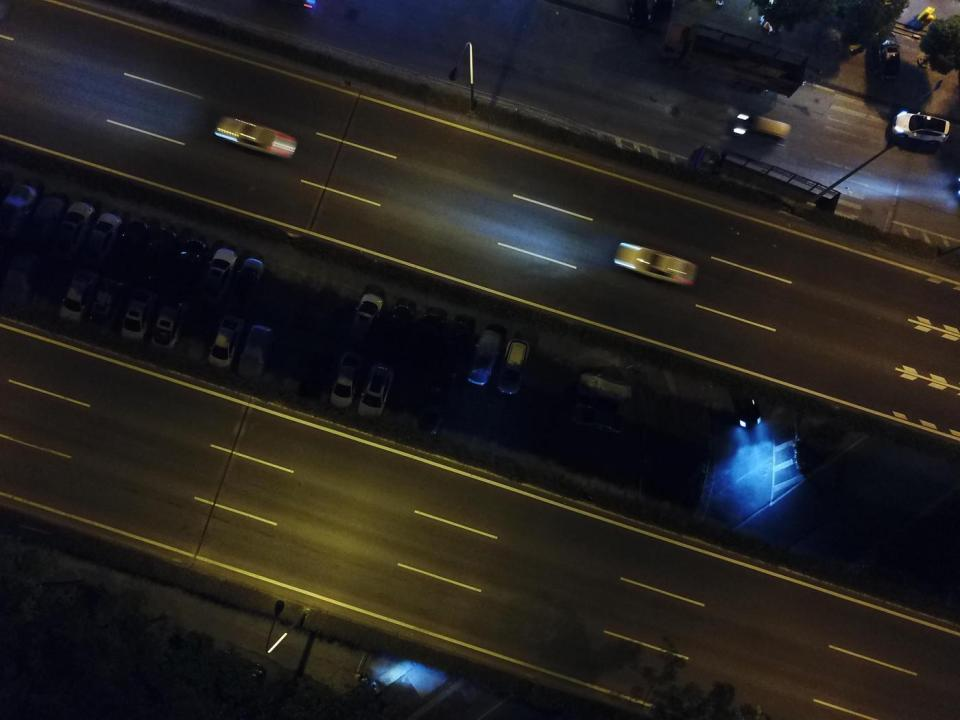car: (613, 242, 700, 290), (213, 113, 298, 161), (51, 200, 94, 264), (435, 316, 474, 382), (356, 362, 395, 425), (83, 210, 122, 270), (28, 192, 65, 255), (55, 270, 97, 325), (466, 328, 504, 387), (237, 322, 274, 382), (151, 295, 188, 355), (414, 306, 449, 369), (87, 276, 125, 334), (346, 291, 386, 345), (328, 351, 365, 409), (139, 226, 176, 284), (111, 218, 148, 276), (495, 337, 531, 396), (225, 257, 265, 310), (892, 110, 950, 146), (0, 182, 36, 239), (379, 303, 416, 356), (208, 315, 243, 371), (118, 291, 155, 341), (172, 238, 206, 292), (204, 246, 236, 303), (873, 29, 900, 81)
truck: (682, 145, 841, 224), (659, 22, 810, 99)
van: (732, 112, 792, 141)
